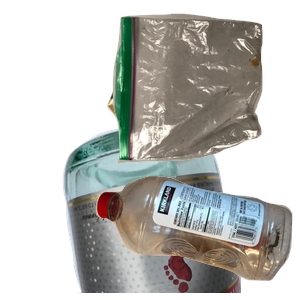glass: (60, 120, 300, 300)
metal: (105, 63, 300, 192)
plastic: (93, 173, 300, 300)
trash: (110, 11, 300, 167)
